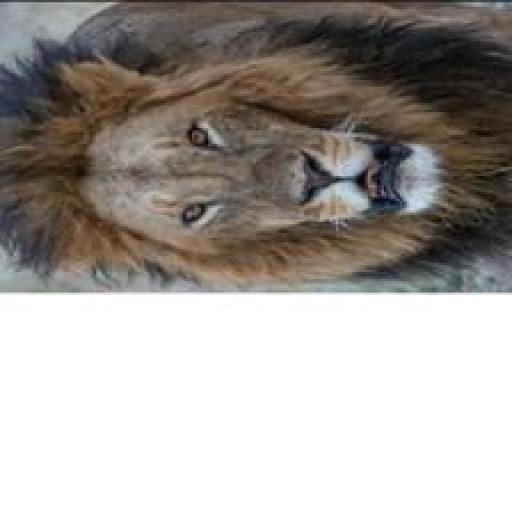lion: (4, 2, 512, 292)
